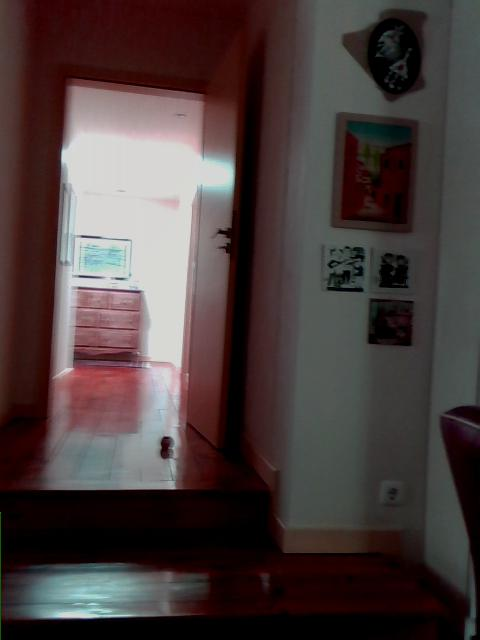open_door: (42, 68, 221, 421)
